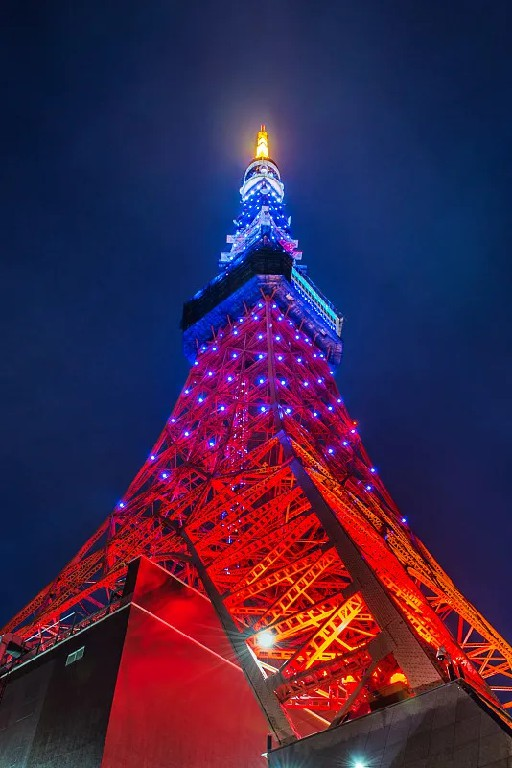Tokyo: (1, 118, 510, 736)
